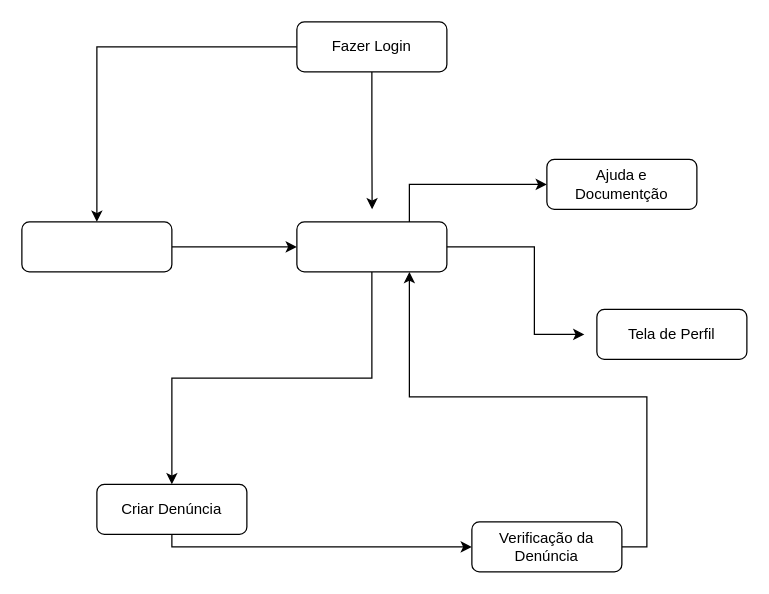
Some shapes in this 769 by 594 pixel diagram are drawn without their labels. Each missing label, with the box of its shape:
Fazer Cadastro: (21, 221, 172, 272)
Página Inicial: (296, 221, 447, 272)
